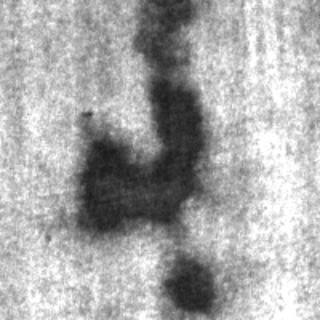patches: (74, 74, 202, 236), (132, 0, 192, 70), (162, 250, 210, 312)
